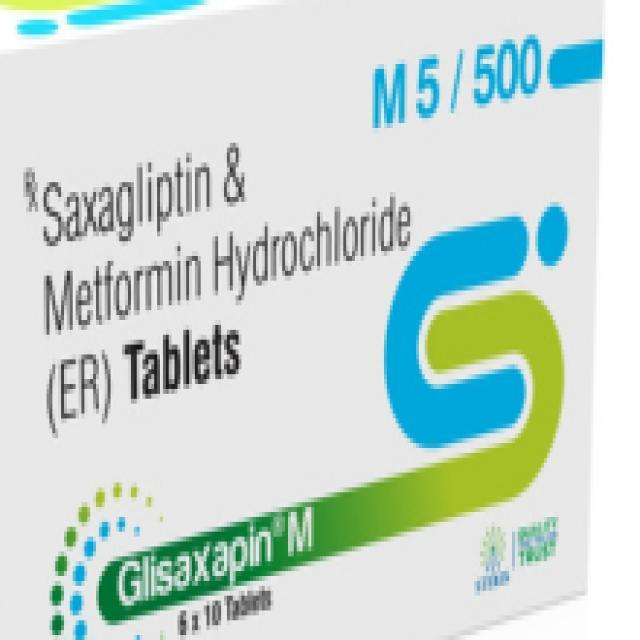drug-name: (113, 494, 324, 614)
